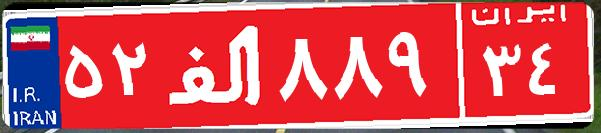2: (110, 28, 158, 105)
3: (475, 38, 525, 113)
4: (525, 38, 570, 115)
5: (57, 26, 110, 107)
8: (273, 28, 330, 110), (330, 28, 385, 110)
9: (385, 28, 445, 110)
الف: (158, 15, 273, 115)
